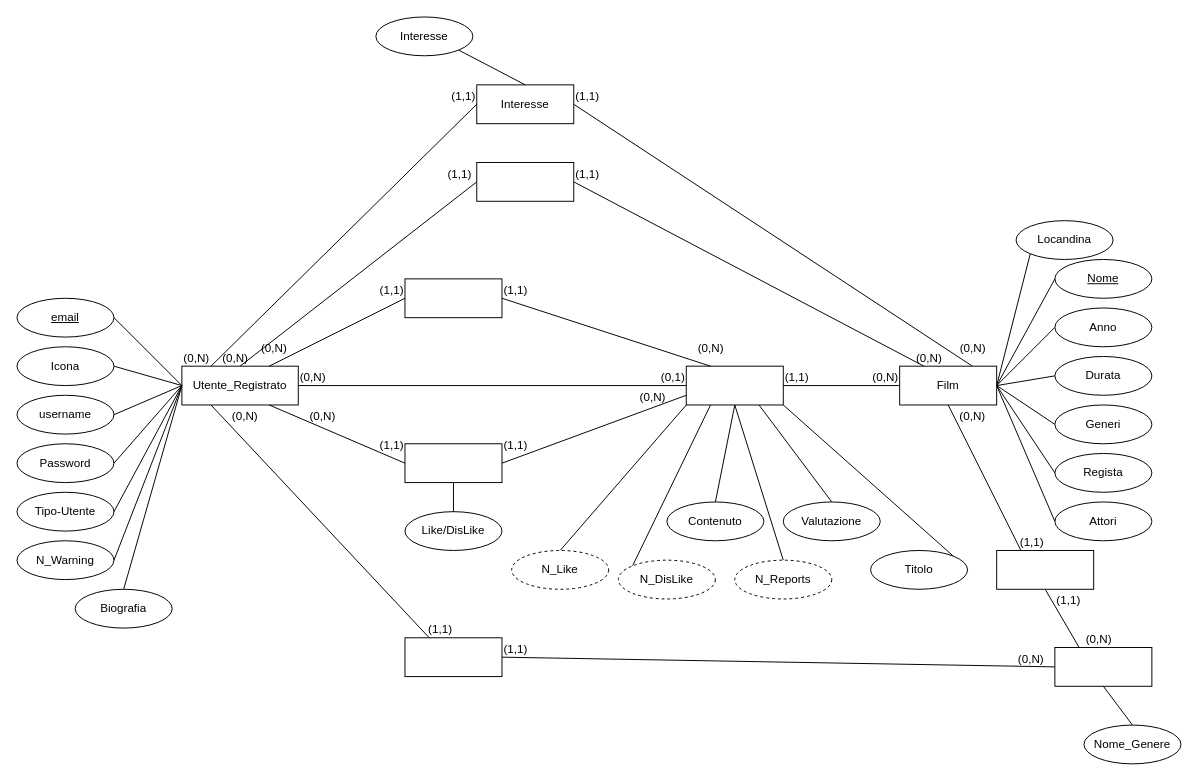
Image size: 1198x781. Some labels were removed from this diagram. The shapes that lost their labels are listed below. From the top down, each one's centre as x and y in pixels, then its label:
At point (525, 181): "Visto".
At point (453, 298): "Report".
At point (734, 385): "Recensione".
At point (453, 463): "Valuta".
At point (1045, 569): "Film_Genere".
At point (453, 657): "Preferenza".
At point (1103, 666): "Genere".
